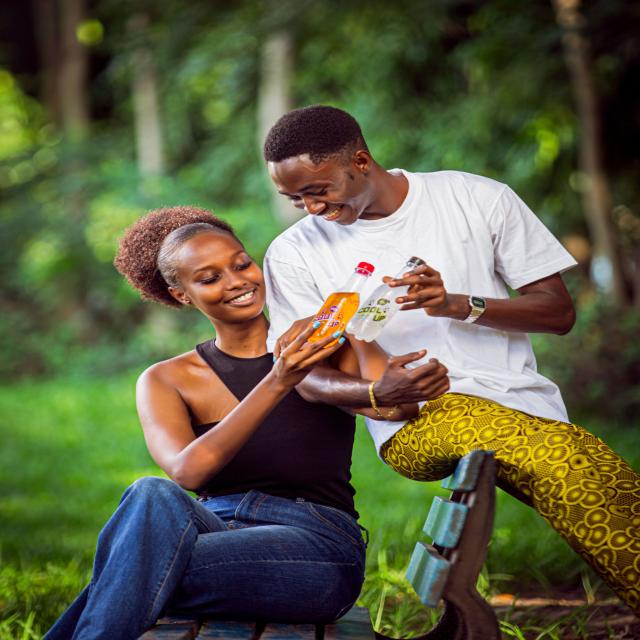Bottle: (309, 263, 374, 342), (347, 284, 408, 342)
